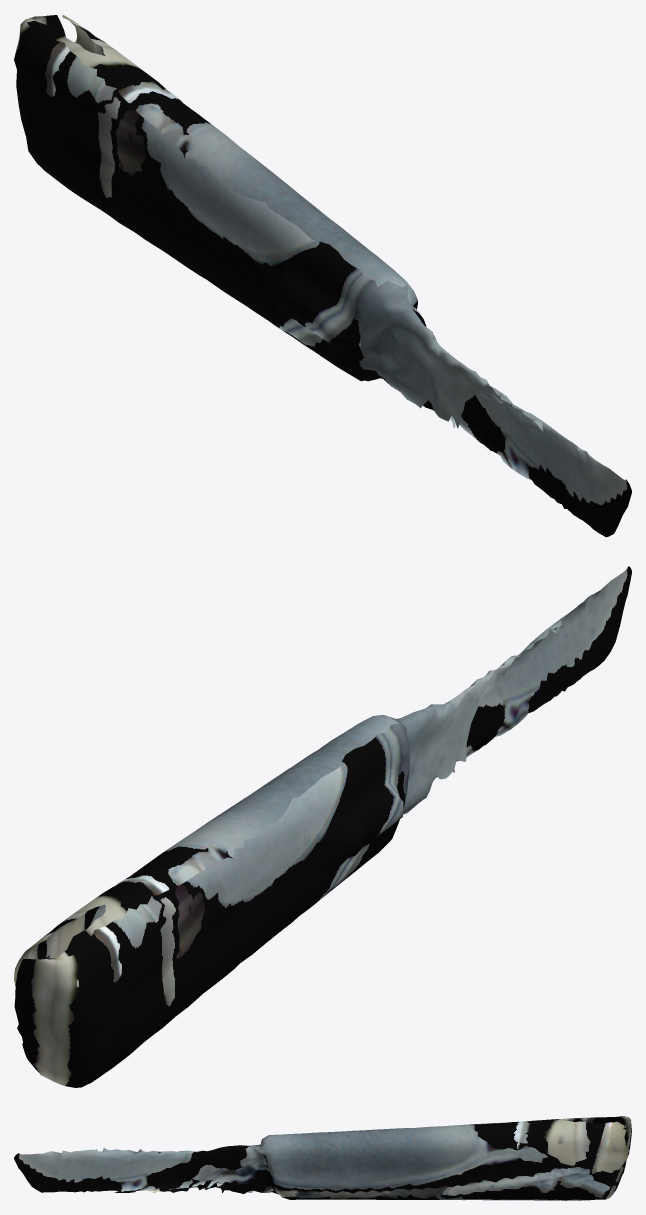
Rendered from scan_align.obj.
3 renders of one model, top to bottom at view 1: azimuth 30°, elevation 25°; view 2: azimuth 150°, elevation 25°; view 3: azimuth 270°, elevation 25°, orthographic. The views are drawn at different scales.
Bounding box in the file's own units: 0.0176 × 0.0339 × 0.2418.
